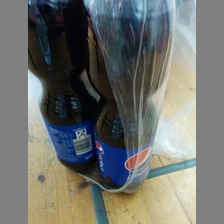soda: (82, 1, 175, 194), (28, 1, 97, 174)
